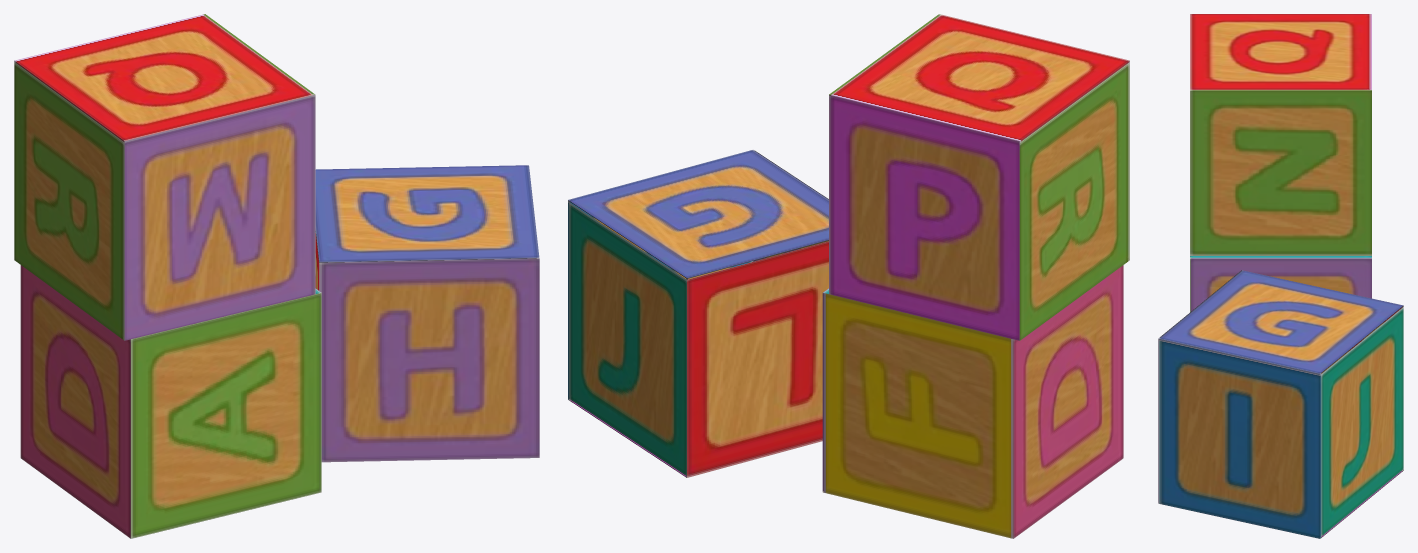
File: Cubes ABC.fbx
The picture shows the model from 3 angles, left to right: view 1: azimuth 30°, elevation 25°; view 2: azimuth 150°, elevation 25°; view 3: azimuth 270°, elevation 25°; orthographic projection. The views are drawn at different scales.
Visible parts, largest first — view 1: Cube.001, Cube.002, Cube; view 2: Cube.001, Cube.002, Cube; view 3: Cube.002, Cube.001, Cube.
Part boxes in pixels (x1=…): Cube.001: x1=14, y1=14, x2=315, y2=340; Cube.002: x1=315, y1=165, x2=539, y2=462; Cube: x1=20, y1=265, x2=321, y2=538; Cube.001: x1=829, y1=14, x2=1129, y2=340; Cube.002: x1=568, y1=149, x2=828, y2=477; Cube: x1=822, y1=265, x2=1123, y2=538; Cube.002: x1=1158, y1=270, x2=1403, y2=538; Cube.001: x1=1190, y1=14, x2=1371, y2=255; Cube: x1=1190, y1=256, x2=1371, y2=312.
Size of the model in its own units: 233 by 184 by 124.
Materials: 3 (3 with a texture image).
